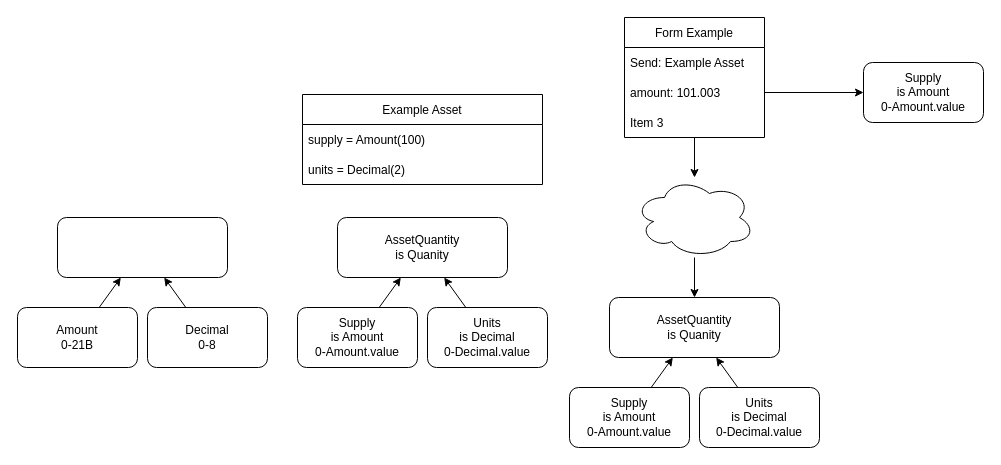
Image size: 1001x465. Some labels were removed from this diagram. Each missing label, with the centre of its shape:
"can we easily validate this?" goes at (694,217).
"Quantity trailing . of amount < decimal" goes at (142,247).
